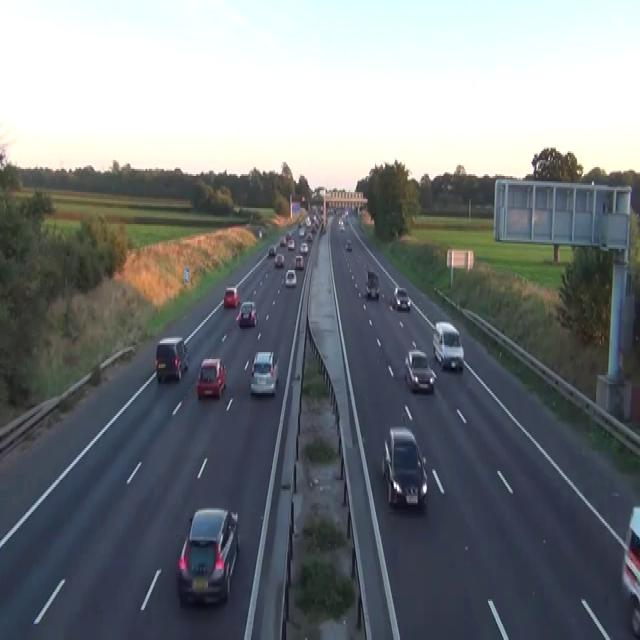Car: (176, 507, 239, 606), (381, 426, 427, 508), (621, 505, 639, 636), (432, 320, 464, 370), (155, 336, 189, 382), (404, 348, 436, 393), (250, 350, 278, 395), (196, 358, 226, 398), (236, 301, 257, 327), (392, 286, 410, 311), (365, 270, 379, 299), (223, 284, 239, 308), (285, 268, 297, 286), (274, 252, 284, 266), (294, 254, 303, 268), (268, 244, 276, 256), (345, 238, 352, 251), (287, 238, 295, 249), (300, 242, 308, 252), (285, 231, 292, 242), (305, 215, 311, 226), (343, 208, 349, 219), (328, 206, 335, 215), (279, 235, 285, 245), (298, 226, 304, 236), (321, 222, 326, 233), (233, 204, 239, 213), (306, 233, 312, 242), (339, 221, 344, 231), (338, 218, 343, 228), (258, 228, 262, 238), (344, 210, 348, 217), (301, 195, 305, 202)
